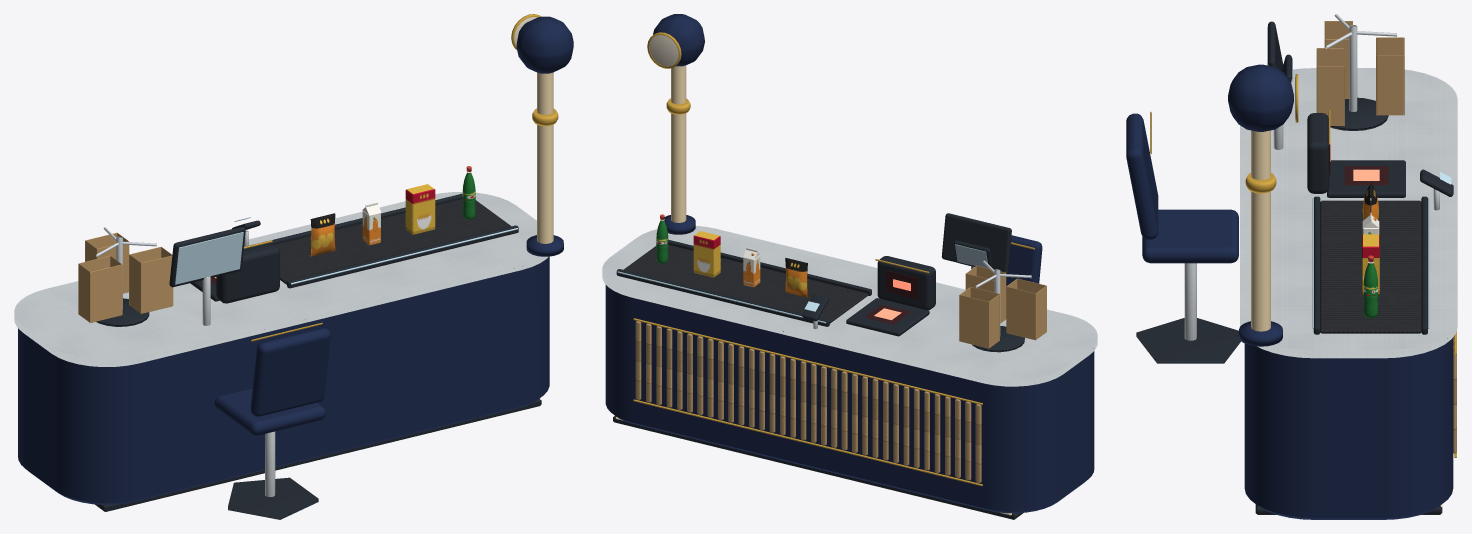
File: checkout_T4.fbx
The picture shows the model from 3 angles, left to right: view 1: azimuth 30°, elevation 25°; view 2: azimuth 150°, elevation 25°; view 3: azimuth 270°, elevation 25°; orthographic projection. The views are drawn at different scales.
Visible parts, largest first — view 1: Body, Anim Fill 0; view 2: Body, Anim Fill 0; view 3: Body, Anim Fill 0.
Part boxes in pixels (x1,y1,x2,y2): Body: [14, 14, 573, 519]; Anim Fill 0: [310, 166, 475, 256]; Body: [602, 14, 1097, 519]; Anim Fill 0: [656, 214, 807, 297]; Body: [1126, 14, 1457, 519]; Anim Fill 0: [1362, 182, 1379, 317].
Bounding box in the file's own units: 3.05 × 2.26 × 1.51.
